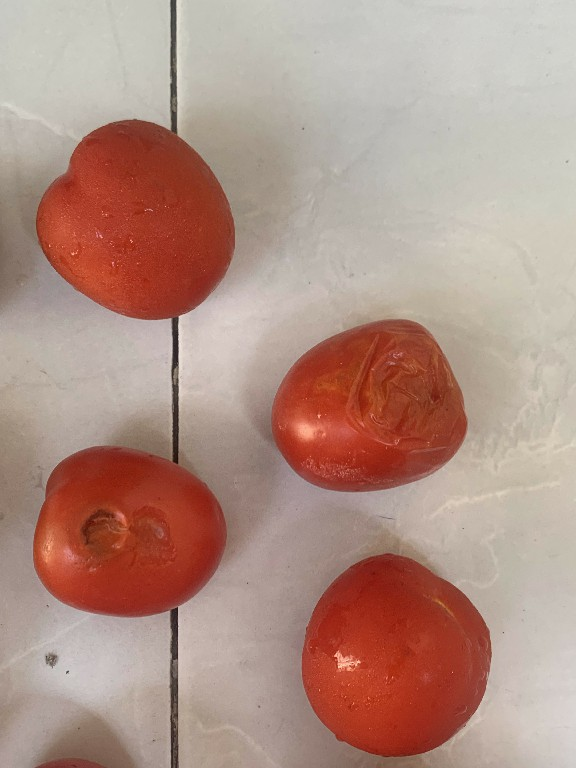NG: (26, 433, 244, 618), (265, 300, 470, 496)
OK: (291, 539, 504, 766), (31, 107, 233, 326)
